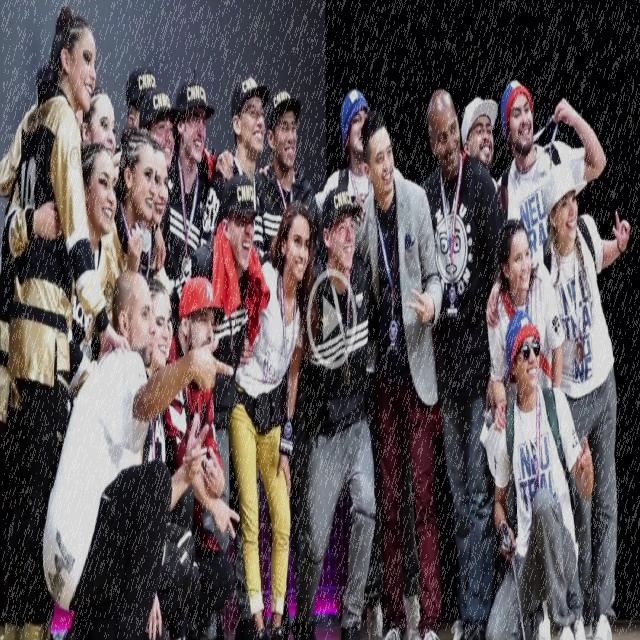pessoa: (2, 5, 134, 639), (38, 268, 235, 638), (212, 76, 332, 639), (96, 271, 238, 639), (64, 271, 206, 639), (350, 110, 445, 639), (420, 86, 506, 639), (424, 87, 510, 639), (538, 161, 632, 639), (168, 173, 264, 639), (292, 185, 386, 639), (223, 197, 319, 639), (484, 307, 594, 639), (258, 86, 406, 251), (495, 75, 608, 281), (484, 216, 565, 434), (66, 140, 121, 426), (200, 75, 272, 269), (166, 76, 232, 286), (4, 37, 64, 263), (99, 120, 159, 333), (136, 86, 184, 172), (80, 82, 116, 162), (146, 133, 170, 234), (124, 62, 157, 129)
